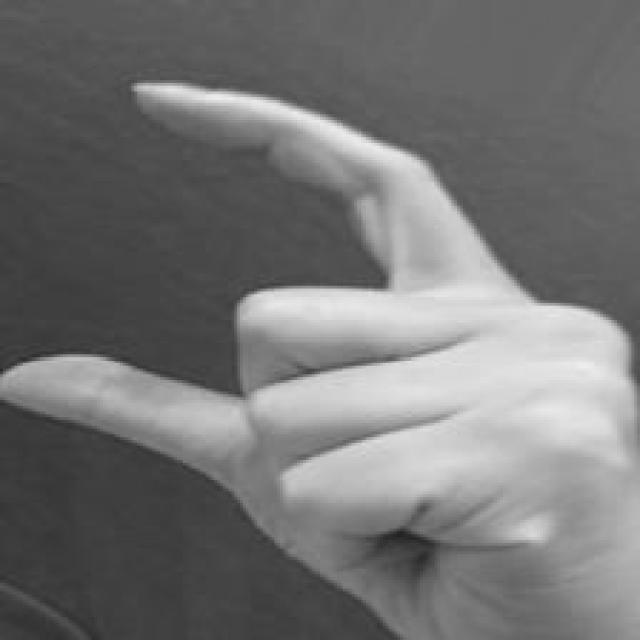C: (0, 74, 640, 640)
